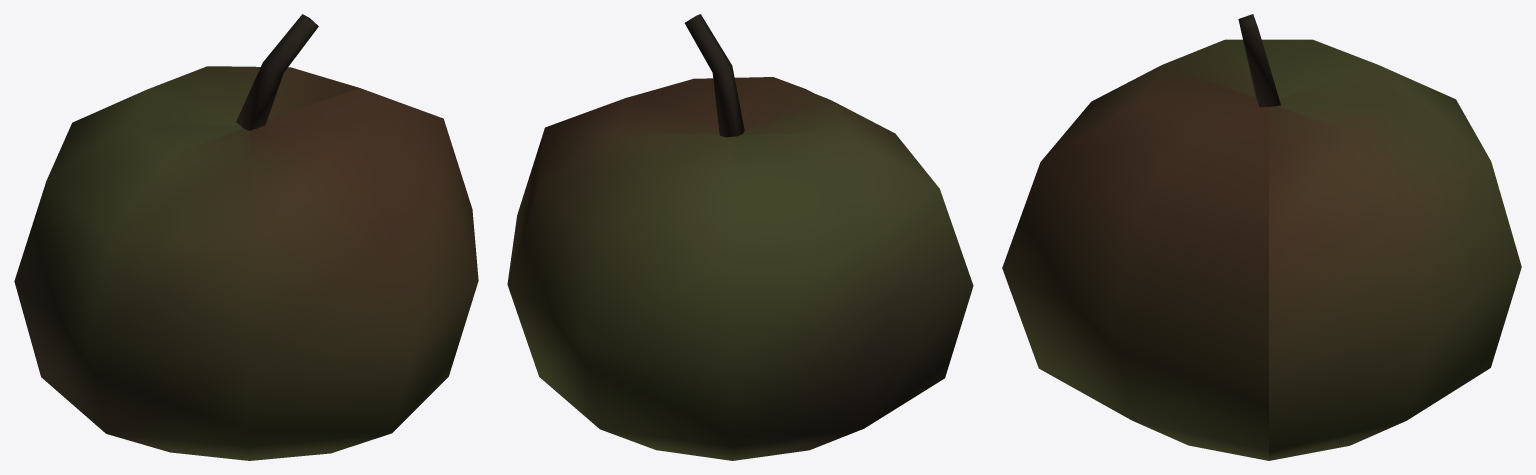
The model's file is prop_item_apple.glb.
The picture shows the model from 3 angles, left to right: view 1: azimuth 30°, elevation 25°; view 2: azimuth 150°, elevation 25°; view 3: azimuth 270°, elevation 25°; orthographic projection. The views are drawn at different scales.
Visible parts, largest first — view 1: ItemAppleSoft; view 2: ItemAppleSoft; view 3: ItemAppleSoft.
Part boxes in pixels (box(x1,y1,x2,y2)): ItemAppleSoft: box(14, 14, 478, 460); ItemAppleSoft: box(507, 14, 973, 460); ItemAppleSoft: box(1002, 14, 1521, 460).
Size of the model in its own units: 0.0753 by 0.0659 by 0.075.
